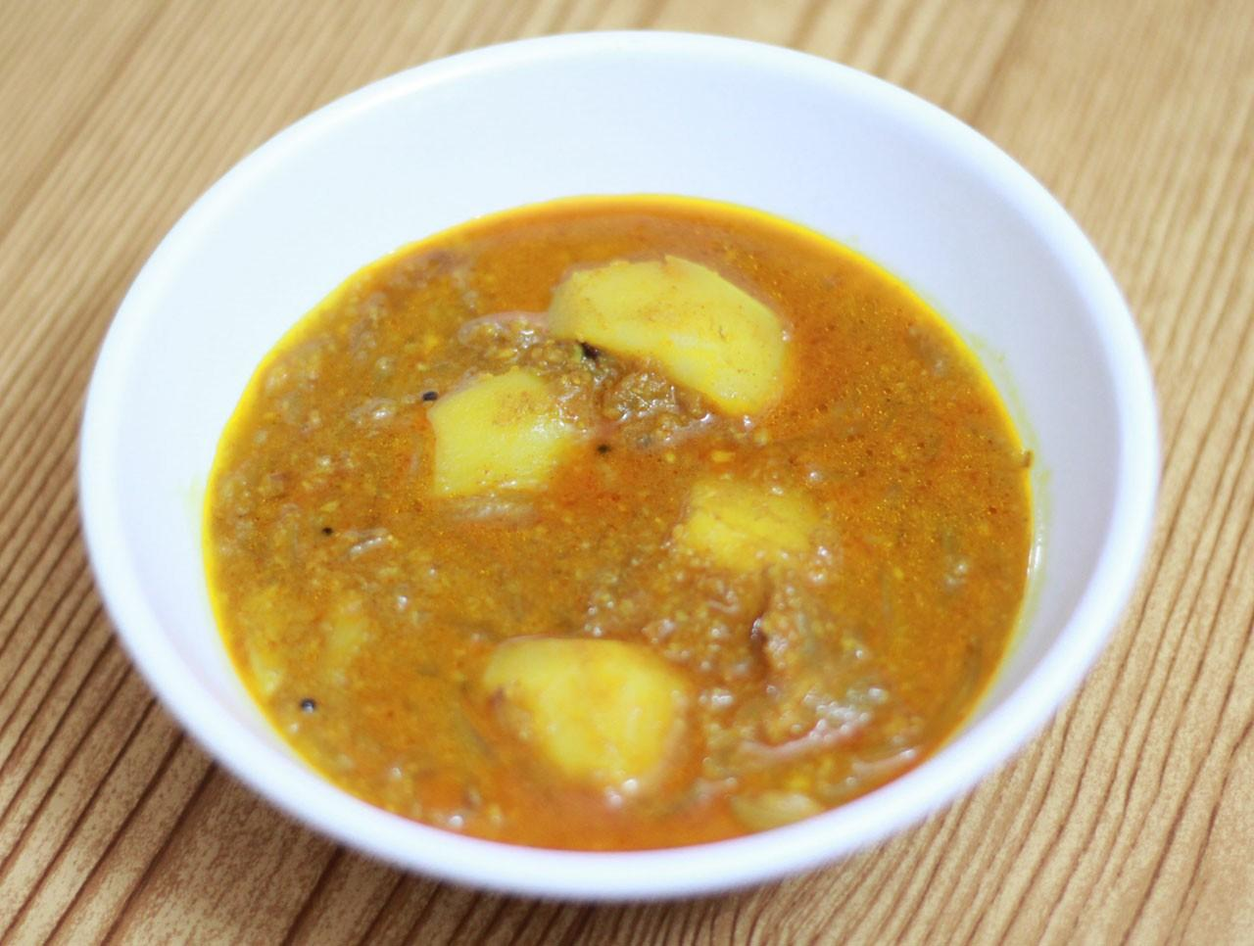DumAloo: (204, 192, 1032, 850)
